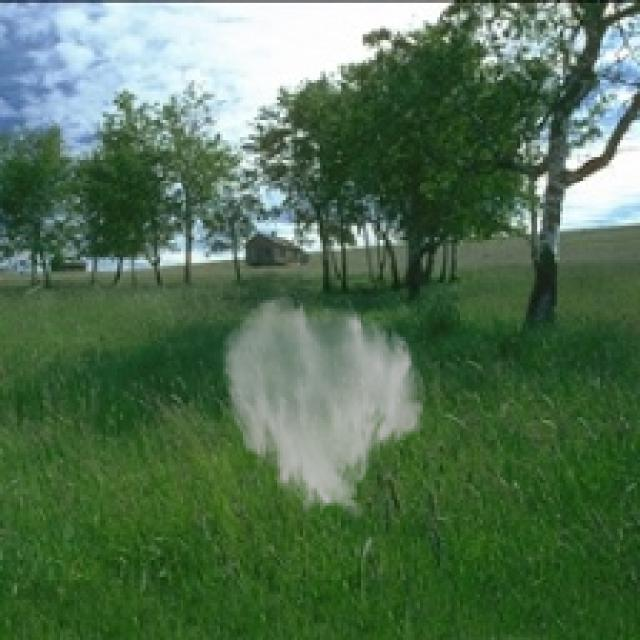smoke: (220, 291, 429, 523)
